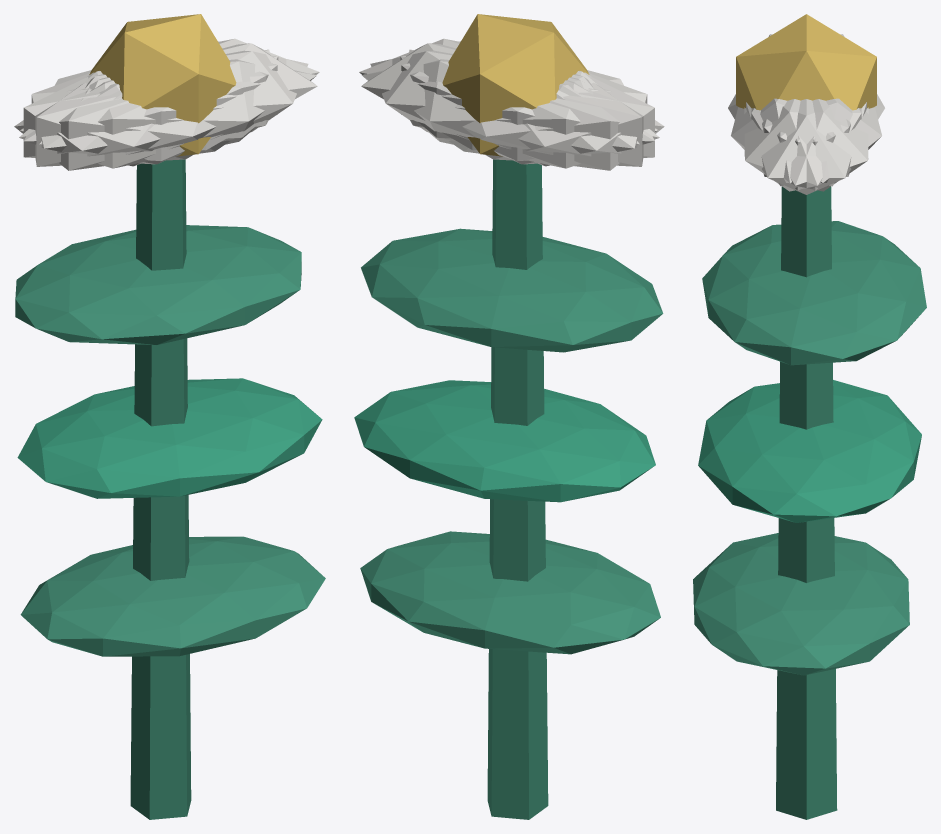
The model's file is phyla-lanceolata.glb.
3 renders of one model, left to right at view 1: azimuth 30°, elevation 25°; view 2: azimuth 150°, elevation 25°; view 3: azimuth 270°, elevation 25°, orthographic.
Visible parts, largest first — view 1: leaf0, leaf1, leaf2, stem, center, petal1, petal6, petal2, petal5, petal7, petal0, petal4 (+2 smaller); view 2: leaf2, leaf1, leaf0, stem, center, petal8, petal3, petal7, petal4, petal2, petal0, petal5 (+2 smaller); view 3: leaf1, leaf2, leaf0, stem, center, petal0, petal4, petal5, petal1, petal8.
Part boxes in pixels (x1,y1,x2,y2): leaf0: (20,536,325,656); leaf1: (17,378,322,498); leaf2: (15,225,301,345); stem: (130,159,191,819); center: (89,14,236,156); petal1: (19,59,316,168); petal6: (14,72,229,170); petal2: (35,49,269,166); petal5: (39,50,308,160); petal7: (23,56,278,164); petal0: (89,43,317,150); petal4: (20,38,319,141); leaf2: (361,228,663,352); leaf1: (354,380,655,502); leaf0: (360,531,660,654); stem: (487,159,548,819); center: (442,14,589,156); petal8: (362,59,659,168); petal3: (449,72,664,170); petal7: (409,49,643,166); petal4: (370,50,639,161); petal2: (400,56,654,164); petal0: (361,43,589,150); petal5: (359,38,658,141); leaf1: (698,380,921,522); leaf2: (702,221,926,365); leaf0: (693,533,909,675); stem: (776,186,837,819); center: (736,14,876,110); petal0: (746,99,866,194); petal4: (751,99,868,191); petal5: (744,99,861,191); petal1: (731,98,850,183); petal8: (762,98,881,183).
Size of the model in its own units: 0.1452 by 0.3711 by 0.1017.
